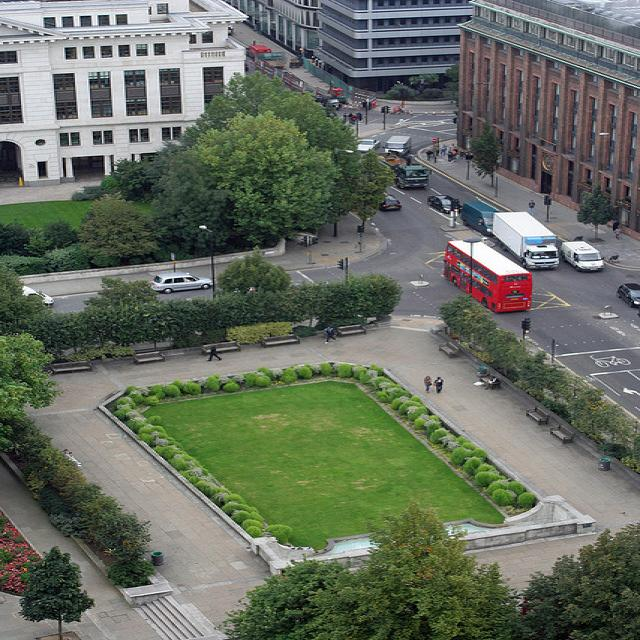Vehicle: (442, 238, 534, 314), (491, 210, 559, 270), (376, 153, 429, 189), (151, 270, 213, 295), (559, 241, 605, 271), (461, 201, 499, 237), (464, 200, 499, 238), (428, 195, 463, 213), (21, 286, 54, 304), (384, 136, 413, 156), (617, 283, 640, 306), (378, 192, 402, 210), (358, 138, 380, 152)
